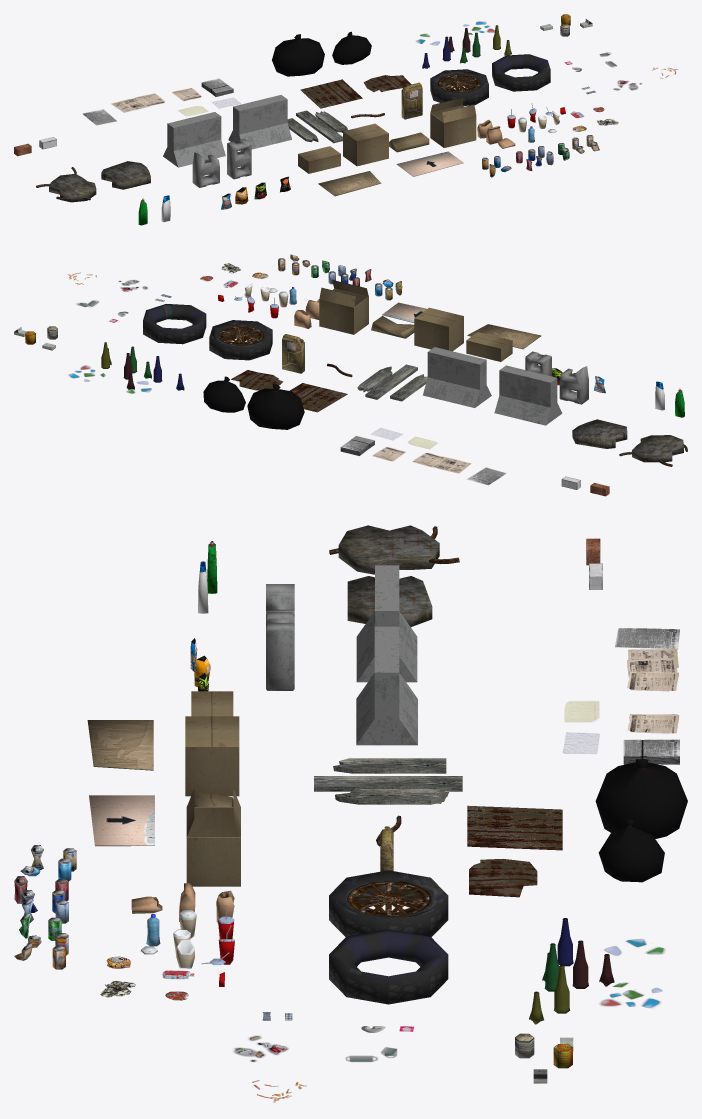
File: stakan.glb
3 renders of one model, top to bottom at view 1: azimuth 30°, elevation 25°; view 2: azimuth 150°, elevation 25°; view 3: azimuth 270°, elevation 25°, orthographic. The views are drawn at different scales.
Parts seen in each view (by area): view 1: Barriar, CardboardBox_2, Wheel_1, TrashBag_1, Wheel_2, CardboardBox_1, Concrete_Debris_2, Concrete_Debris_1, Sheet_Metal_1, TrashBag_2, Cinder_Block_1, Cardboard_Cutout_2 (+15 smaller); view 2: Barriar, CardboardBox_2, Wheel_1, TrashBag_1, Wheel_2, CardboardBox_1, Concrete_Debris_2, Concrete_Debris_1, TrashBag_2, CardboardBox_3, Cinder_Block_2, Sheet_Metal_1 (+15 smaller); view 3: Wheel_2, Wheel_1, TrashBag_1, Barriar, CardboardBox_2, CardboardBox_1, Concrete_Debris_2, Sheet_Metal_1, Cardboard_Cutout_2, Cardboard_Cutout_1, TrashBag_2, Concrete_Debris_1 (+11 smaller).
Part boxes in pixels (x1,y1,x2,y2): Barriar: (228,95,291,149); CardboardBox_2: (430,97,476,147); Wheel_1: (430,69,488,105); TrashBag_1: (272,34,324,76); Wheel_2: (492,54,550,91); CardboardBox_1: (343,123,388,166); Concrete_Debris_2: (36,167,96,202); Concrete_Debris_1: (101,161,150,189); Sheet_Metal_1: (300,79,362,108); TrashBag_2: (332,31,371,64); Cinder_Block_1: (227,138,251,179); Cardboard_Cutout_2: (396,151,463,176); Barriar: (422,347,491,407); CardboardBox_2: (319,280,368,334); Wheel_1: (209,320,272,360); TrashBag_1: (247,384,304,429); Wheel_2: (143,304,206,344); CardboardBox_1: (414,307,463,351); Concrete_Debris_2: (619,435,687,466); Concrete_Debris_1: (572,419,627,448); TrashBag_2: (203,376,245,412); CardboardBox_3: (466,332,512,361); Cinder_Block_2: (559,366,588,404); Sheet_Metal_1: (289,383,347,412); Wheel_2: (329,929,448,1004); Wheel_1: (329,870,448,936); TrashBag_1: (595,759,687,838); Barriar: (356,626,417,745); CardboardBox_2: (186,789,240,886); CardboardBox_1: (185,716,239,796); Concrete_Debris_2: (329,525,459,574); Sheet_Metal_1: (467,805,562,850); Cardboard_Cutout_2: (89,795,154,846); Cardboard_Cutout_1: (87,720,153,770); TrashBag_2: (598,819,664,882); Concrete_Debris_1: (347,576,432,626).
Bounding box in the file's own units: 23.34 × 1.86 × 11.5.
Materials: 17 (17 with a texture image).
